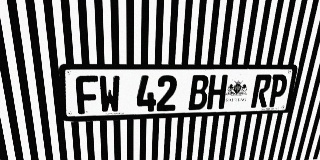2: (156, 75, 177, 111)
4: (136, 75, 157, 112)
B: (188, 75, 209, 110)
F: (75, 75, 99, 114)
H: (206, 75, 228, 109)
P: (267, 74, 289, 107)
R: (250, 74, 272, 108)
W: (98, 75, 120, 113)
